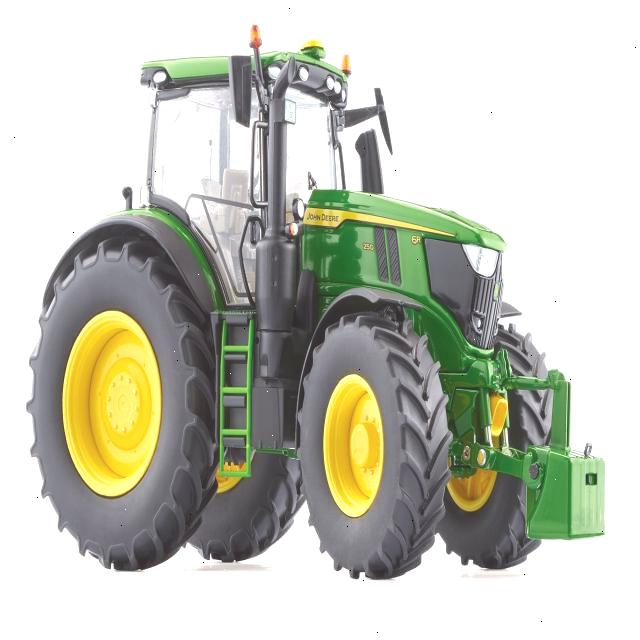Tratores - v5 YOLO V8L 2024-11-13: (24, 13, 612, 584)
